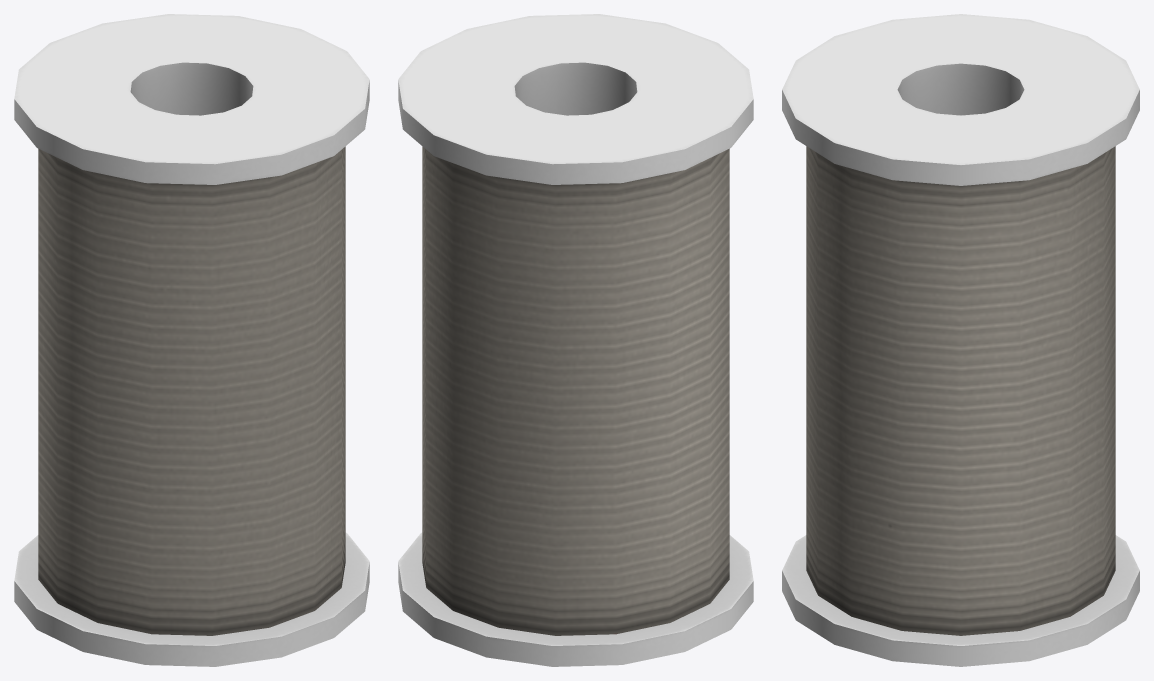
File: thread_03.fbx
3 views of the same model, side by side, from view 1: azimuth 30°, elevation 25°; view 2: azimuth 150°, elevation 25°; view 3: azimuth 270°, elevation 25° (orthographic).
Parts seen in each view (by area): view 1: thread_03; view 2: thread_03; view 3: thread_03.
Part boxes in pixels (x1,y1,x2,y2): thread_03: (14, 14, 369, 666); thread_03: (398, 14, 753, 666); thread_03: (782, 14, 1139, 666).
Size of the model in its own units: 8.4 by 13 by 8.4.
